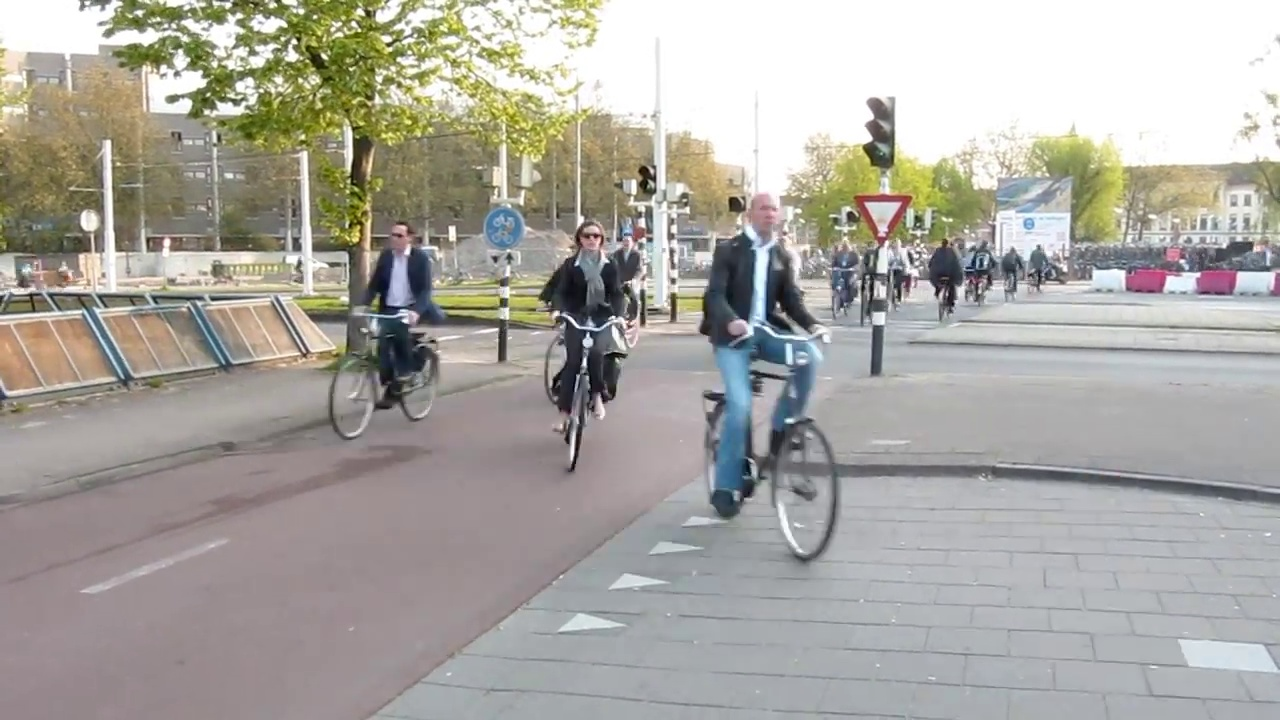cyclist_back: (927, 234, 961, 324), (971, 236, 992, 309), (1003, 245, 1024, 308)
cyclist_front: (693, 175, 849, 565), (334, 211, 448, 446), (546, 215, 634, 486), (832, 241, 856, 319)
